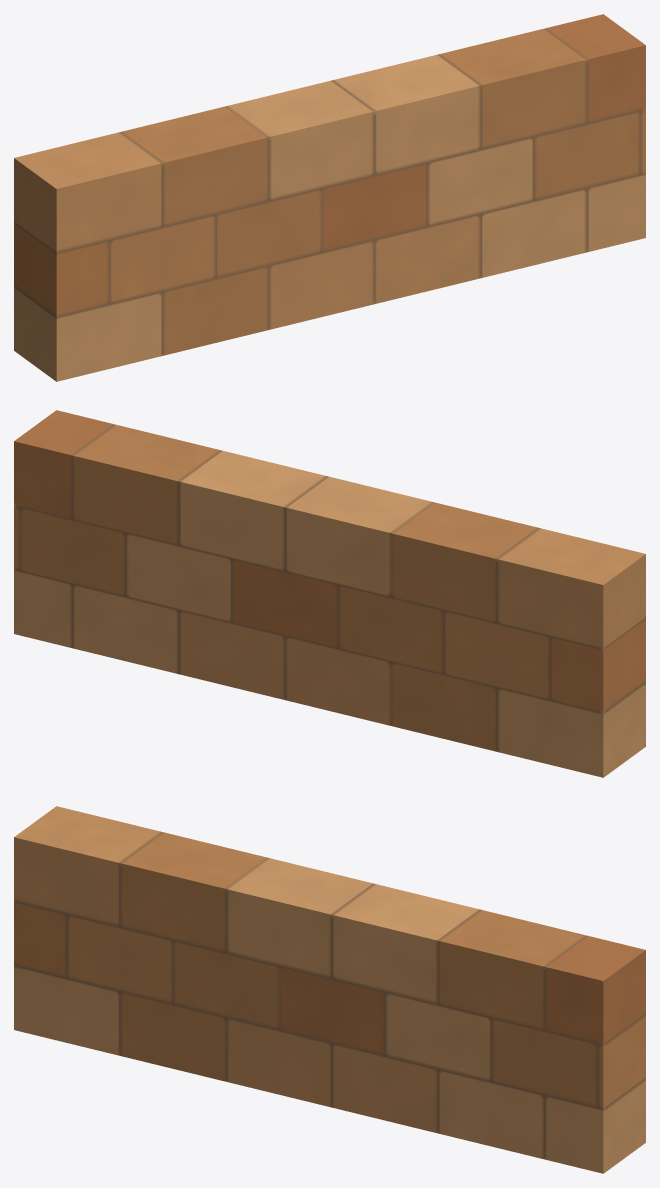
3 views of the same model, one above another, from view 1: azimuth 30°, elevation 25°; view 2: azimuth 150°, elevation 25°; view 3: azimuth 330°, elevation 25° (orthographic).
Visible parts, largest first — view 1: ss13-low-sandstone-wall; view 2: ss13-low-sandstone-wall; view 3: ss13-low-sandstone-wall.
Boxes of the visible parts, x1,y1,x2,y2 form: ss13-low-sandstone-wall: (14,14,645,381); ss13-low-sandstone-wall: (14,410,645,777); ss13-low-sandstone-wall: (14,806,645,1173).
Bounding box in the file's own units: 400 × 125 × 50.
